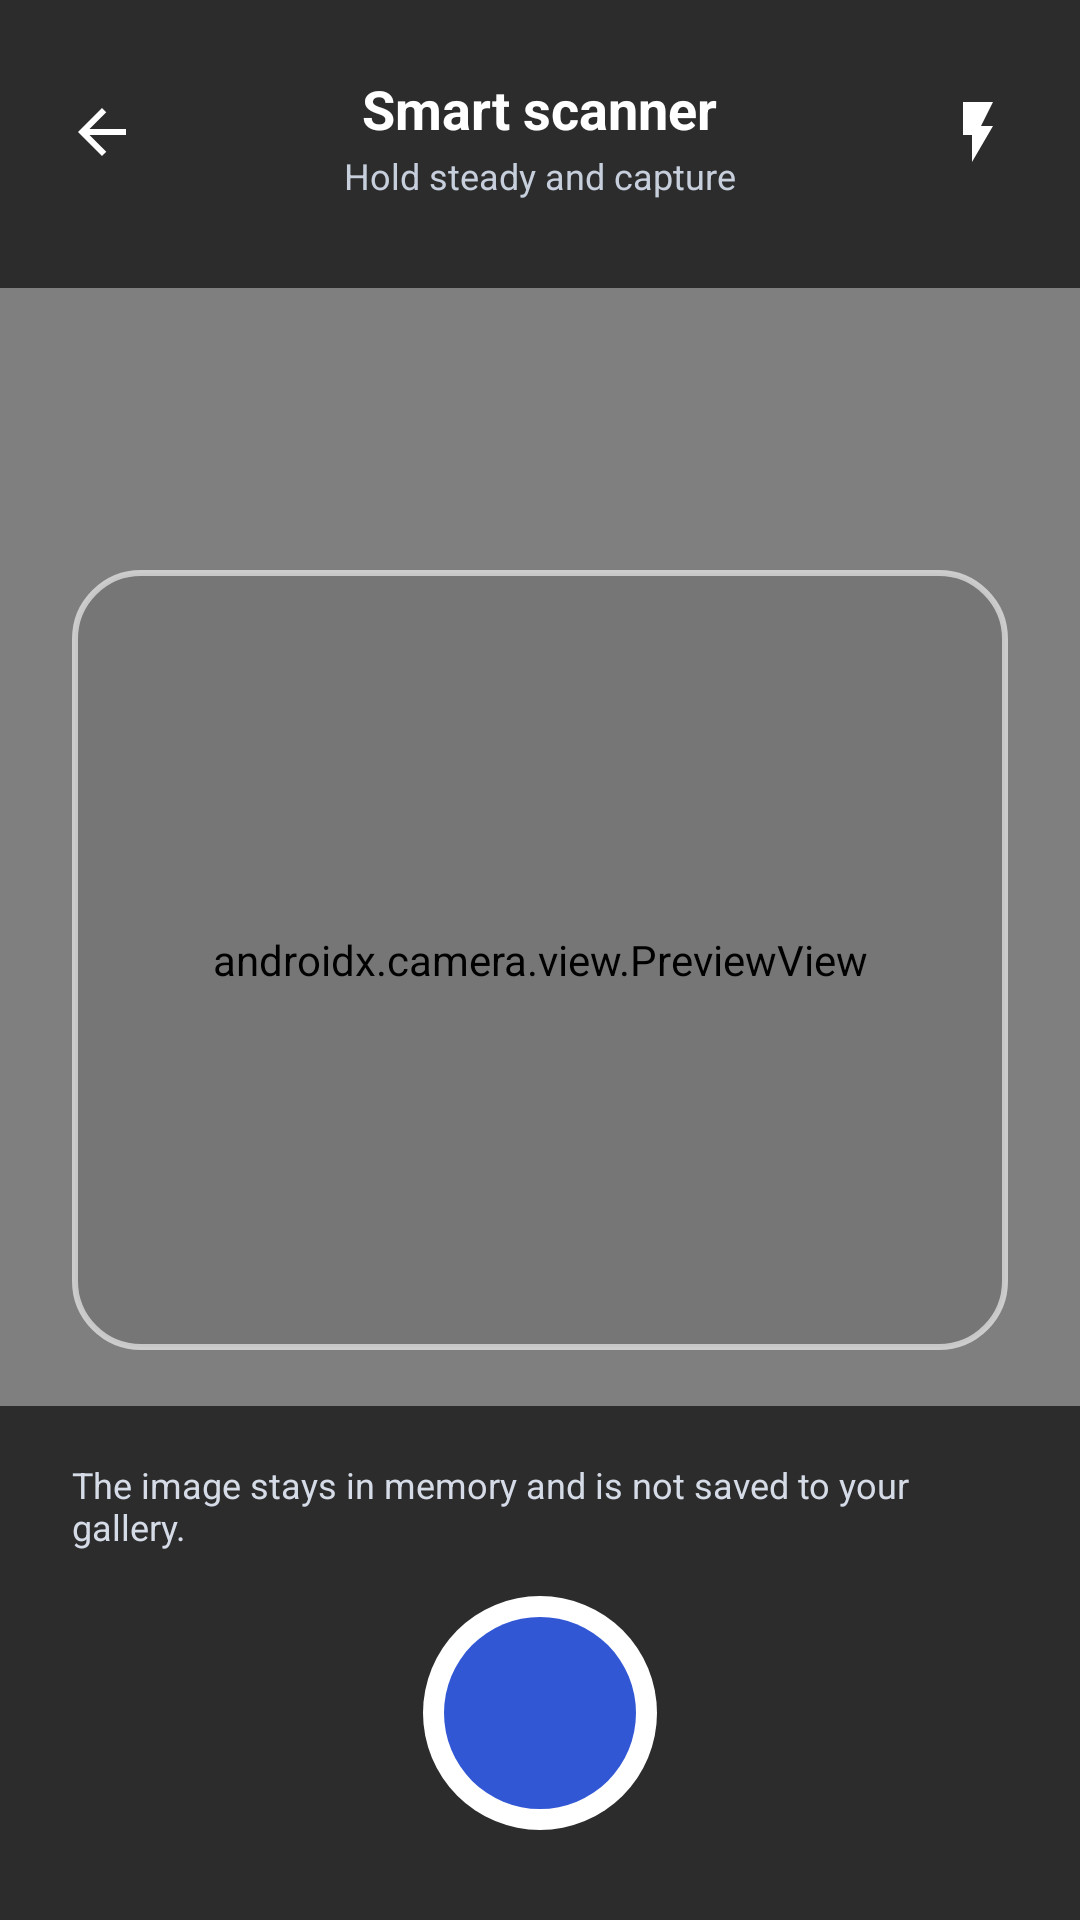

Screen size 1080 × 1920. Icon name, then its center in pixels as (x,y):
Back: (102,132)
Toggle flash: (978,132)
